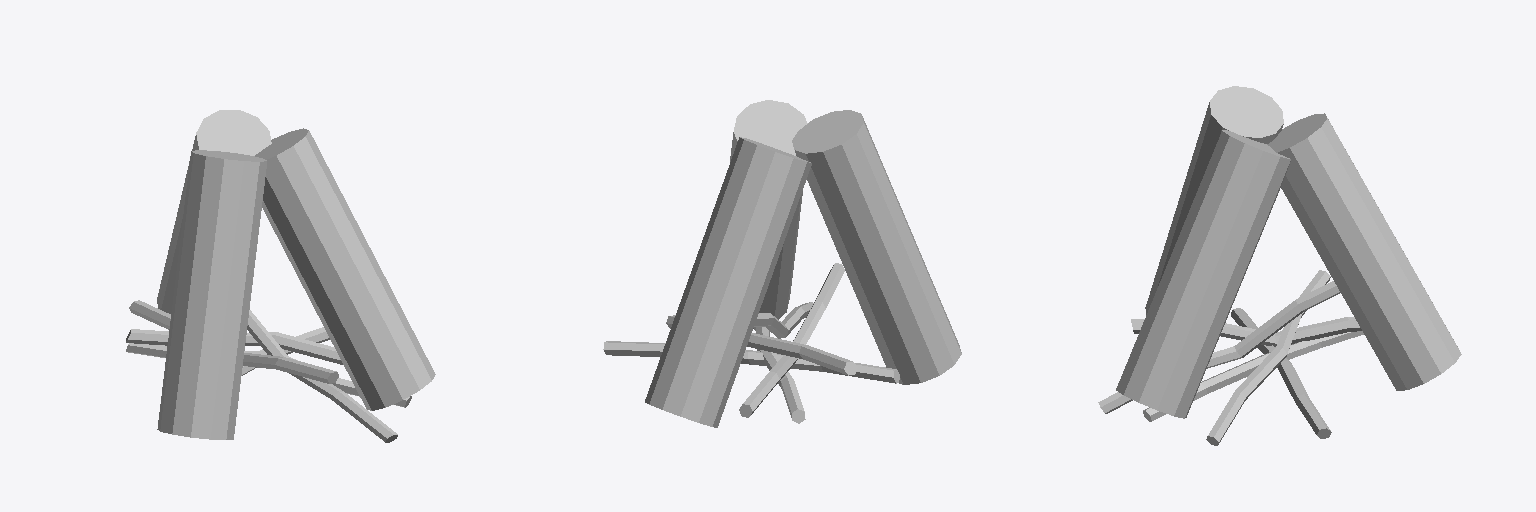
The model's file is campfire.obj.
3 views of the same model, side by side, from view 1: azimuth 30°, elevation 25°; view 2: azimuth 150°, elevation 25°; view 3: azimuth 270°, elevation 25° (orthographic).
Parts seen in each view (by area): view 1: Campfire_defaultMaterial; view 2: Campfire_defaultMaterial; view 3: Campfire_defaultMaterial.
Boxes of the visible parts, <box> form: Campfire_defaultMaterial: <box>126,110,435,442</box>; Campfire_defaultMaterial: <box>603,100,961,427</box>; Campfire_defaultMaterial: <box>1098,86,1461,445</box>.
Bounding box in the file's own units: 1.79 × 1.64 × 2.